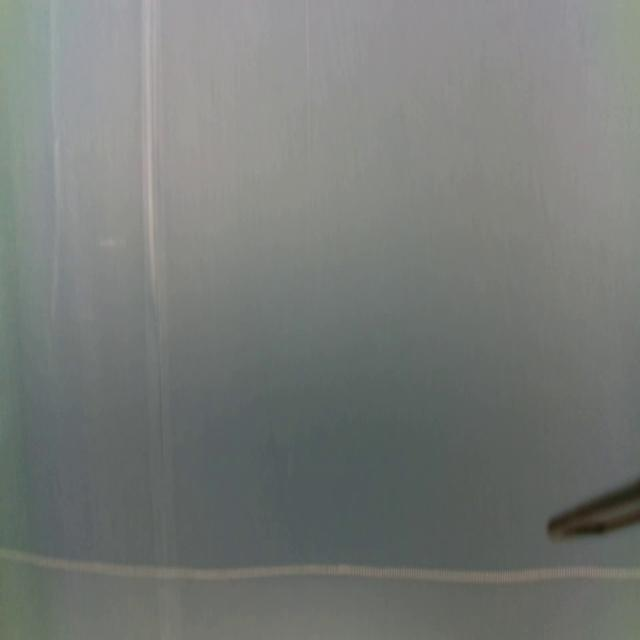crease: (140, 0, 172, 469), (45, 0, 63, 332), (301, 0, 314, 168)
